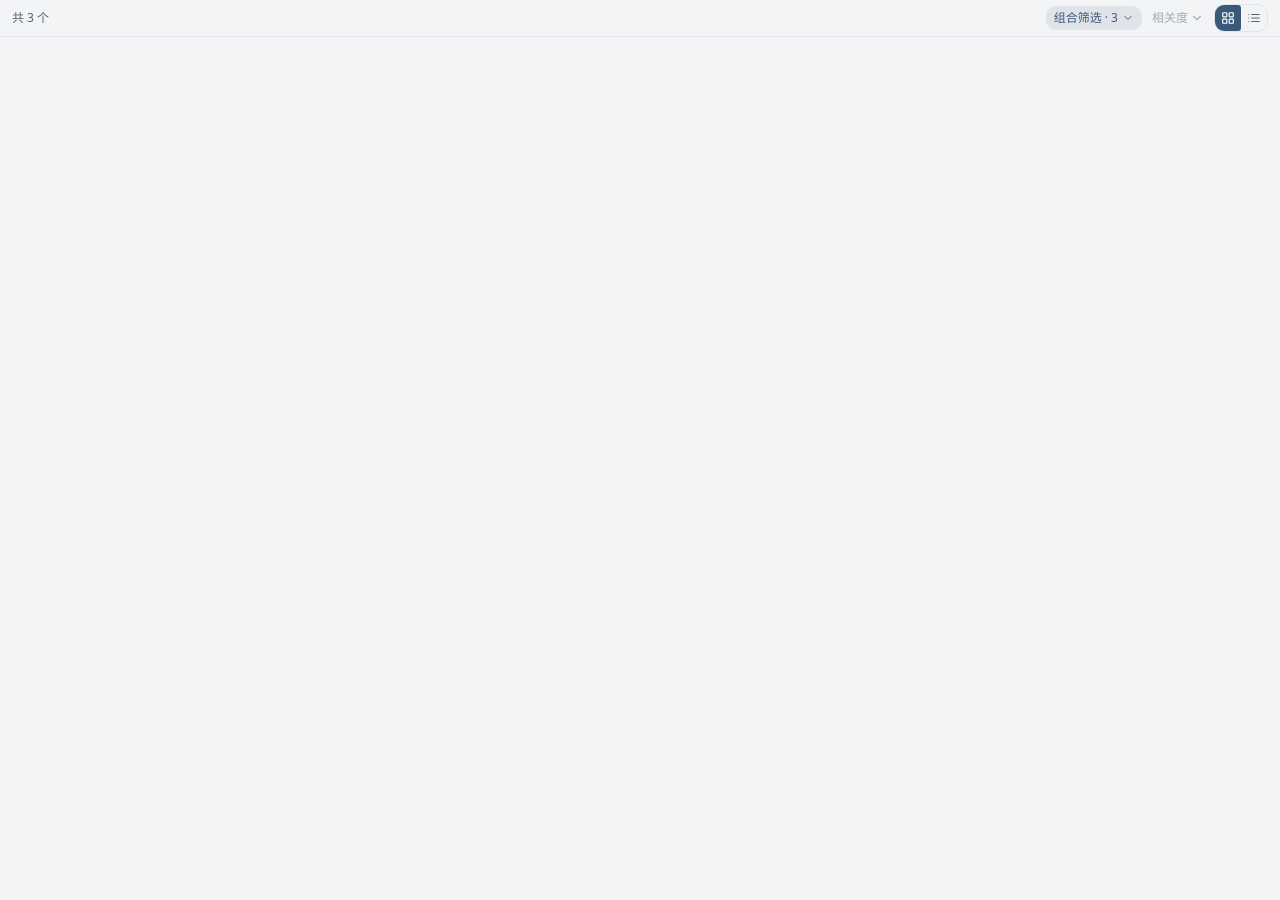
Test case: 列表工具栏的组合筛选入口 › 多条件集中展示，移除一项保留其他条件与范围、搜索词
Click the button "组合筛选 · 3" at (1094, 18), box [1046,6,1142,30]
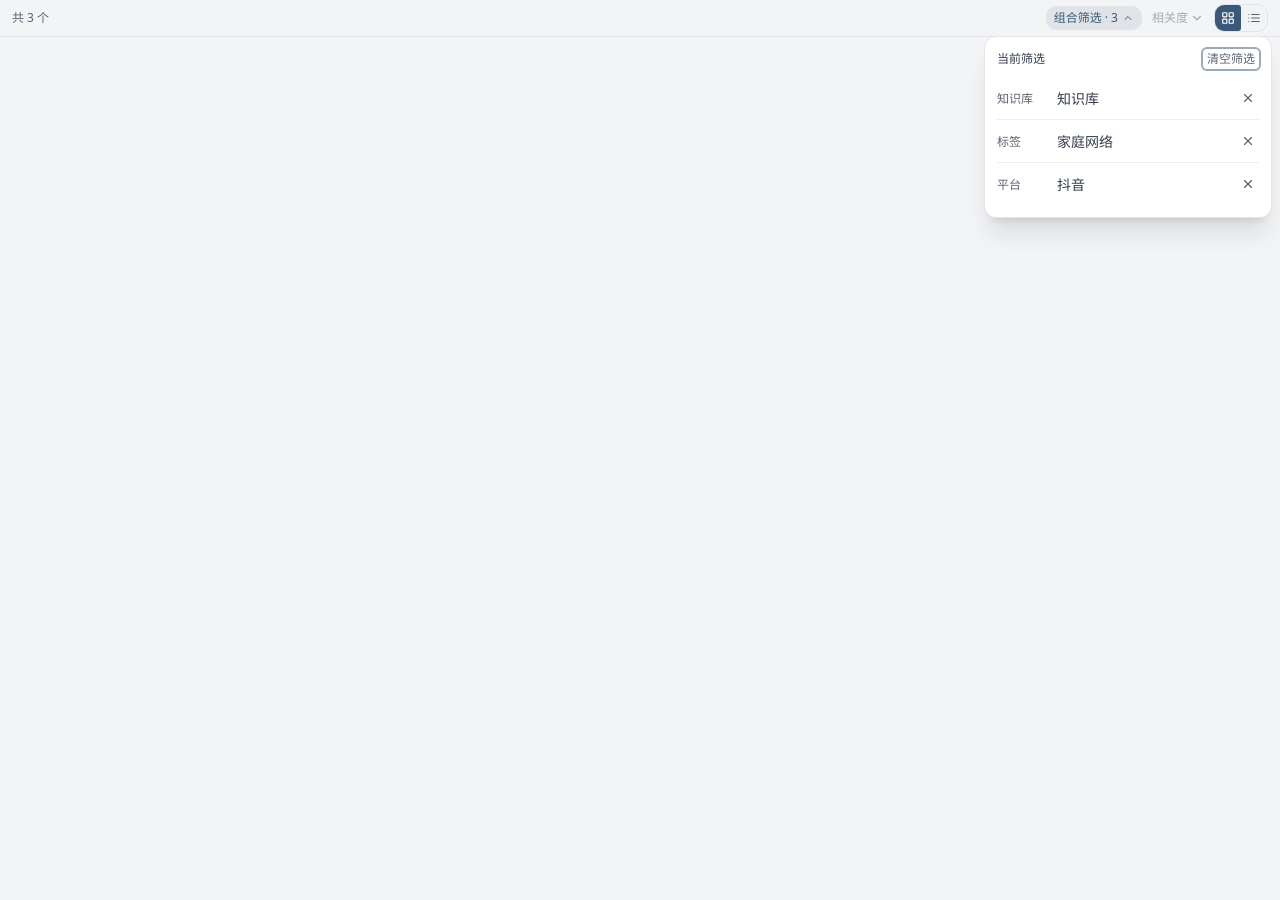
Expected: the text "抖音" is shown, [1057,175,1085,194]
Click the button named "取消标签筛选：家庭网络" at (1248, 141), box [1237,130,1259,152]
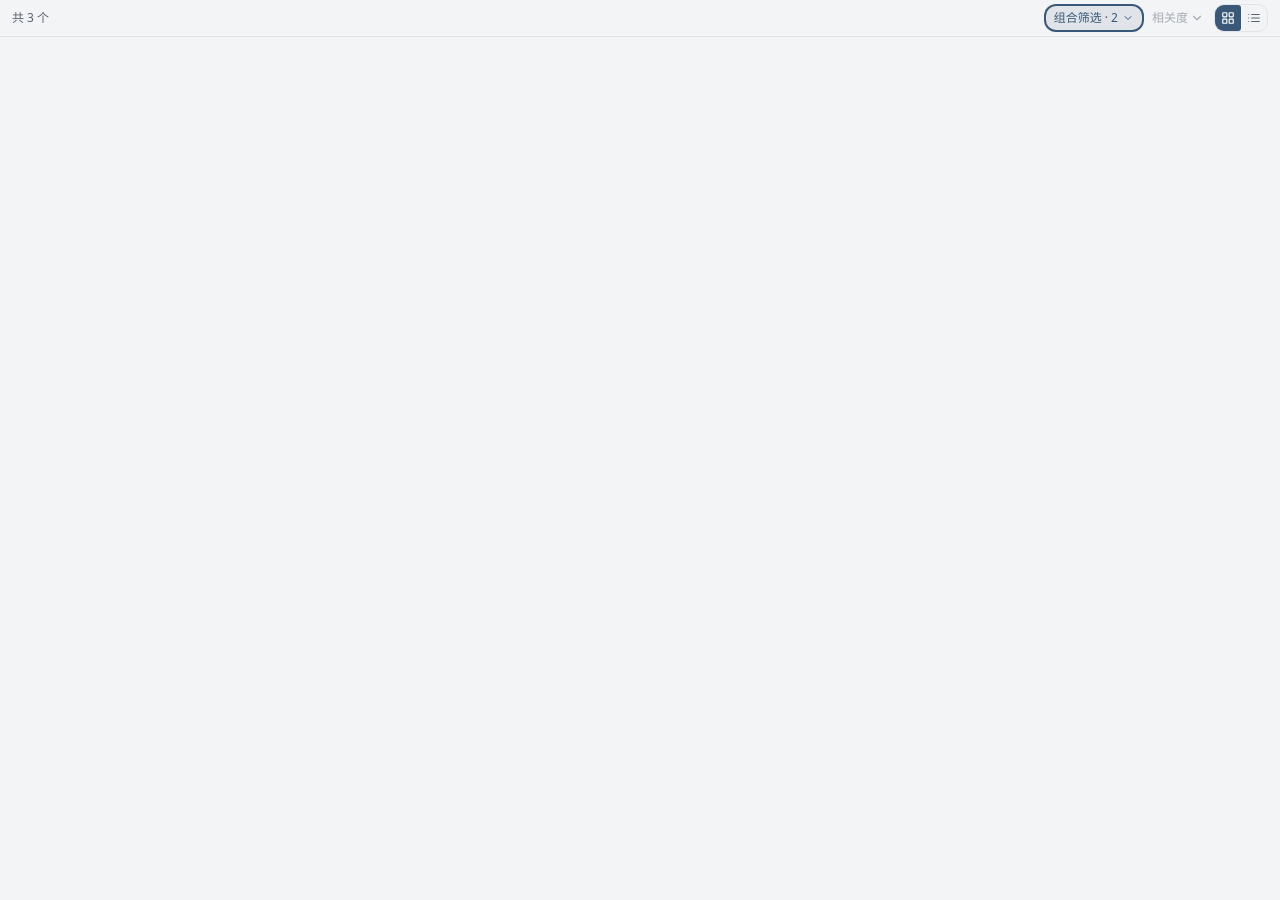
Expected: the dialog is gone
Click the button "组合筛选 · 2" at (1094, 18), box [1046,6,1142,30]
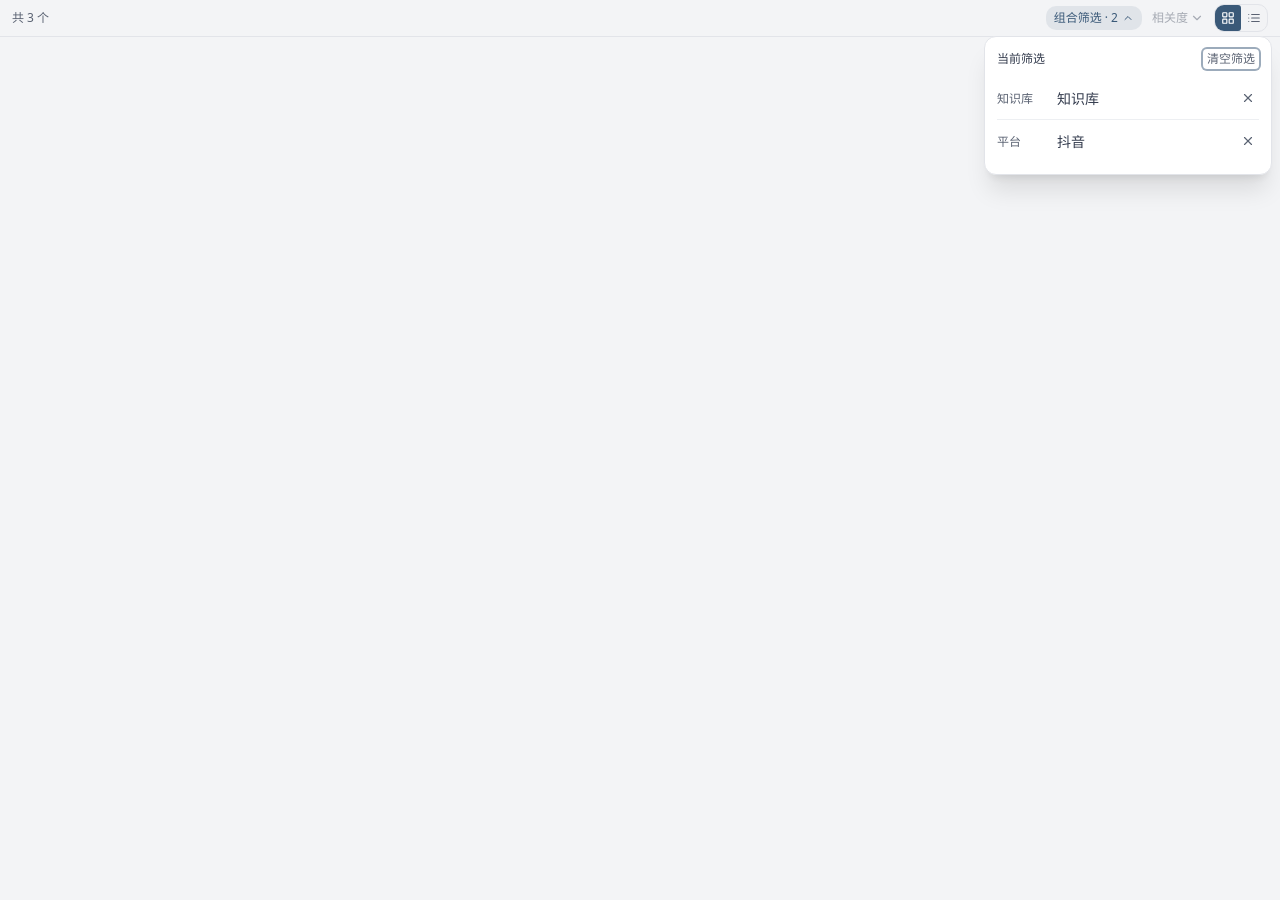
Click the button named "取消平台筛选：抖音" at (1248, 141), box [1237,130,1259,152]
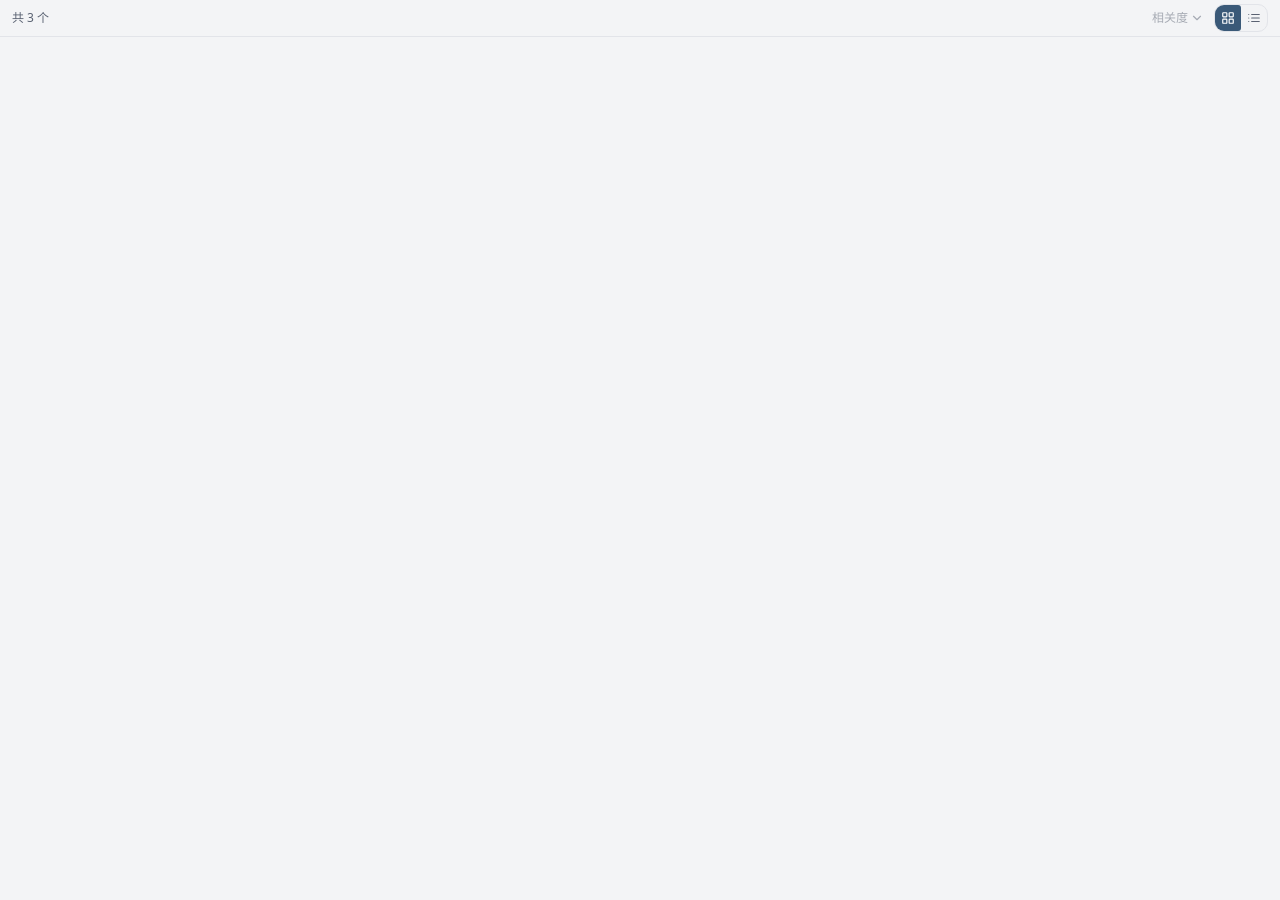
Expected: the button "组合筛选" is gone
Expected: the dialog is gone
